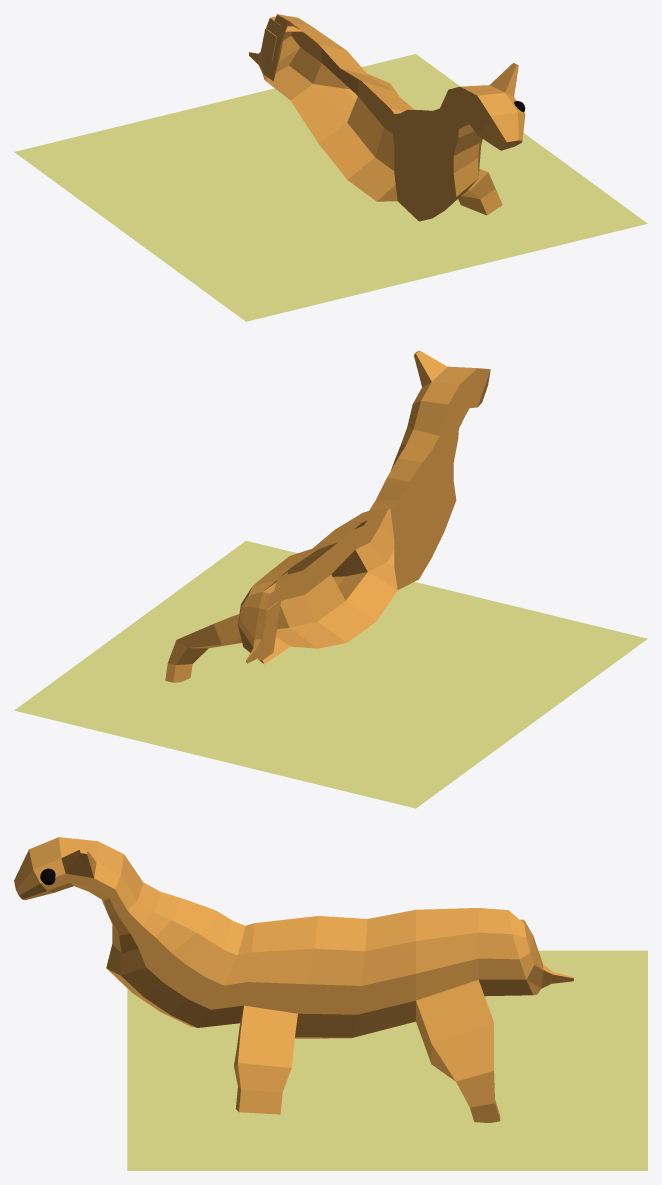
The model's file is tutorial_dog.glb.
3 views of the same model, one above another, from view 1: azimuth 30°, elevation 25°; view 2: azimuth 150°, elevation 25°; view 3: azimuth 270°, elevation 25° (orthographic). The views are drawn at different scales.
Parts seen in each view (by area): view 1: Plane, Cube; view 2: Plane, Cube; view 3: Plane, Cube.
Part boxes in pixels (bbox=[...]): Plane: bbox=[14, 54, 647, 321]; Cube: bbox=[249, 14, 525, 221]; Plane: bbox=[14, 540, 647, 808]; Cube: bbox=[165, 350, 490, 682]; Plane: bbox=[127, 950, 647, 1170]; Cube: bbox=[14, 837, 573, 1122].
Size of the model in its own units: 13.95 by 7.25 by 16.98.
